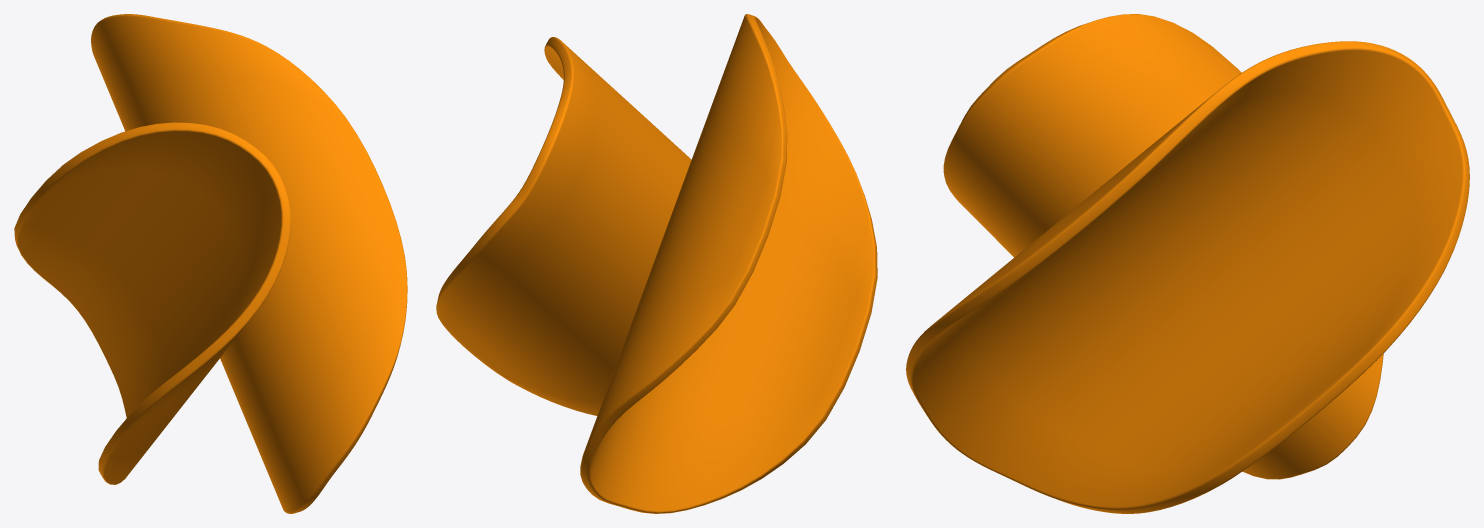
The model's file is Flow.gltf.
3 renders of one model, left to right at view 1: azimuth 30°, elevation 25°; view 2: azimuth 150°, elevation 25°; view 3: azimuth 270°, elevation 25°, orthographic. The views are drawn at different scales.
Visible parts, largest first — view 1: Cylinder.002, Cylinder.001; view 2: Cylinder.001, Cylinder.002; view 3: Cylinder.002, Cylinder.001.
Boxes of the visible parts, left/top/right/bottom form: Cylinder.002: left=91, top=14, right=407, bottom=513; Cylinder.001: left=14, top=122, right=290, bottom=484; Cylinder.001: left=580, top=14, right=877, bottom=513; Cylinder.002: left=436, top=37, right=691, bottom=415; Cylinder.002: left=906, top=41, right=1469, bottom=513; Cylinder.001: left=943, top=14, right=1383, bottom=479.
Bounding box in the file's own units: 1.47 × 2.2 × 2.39.
